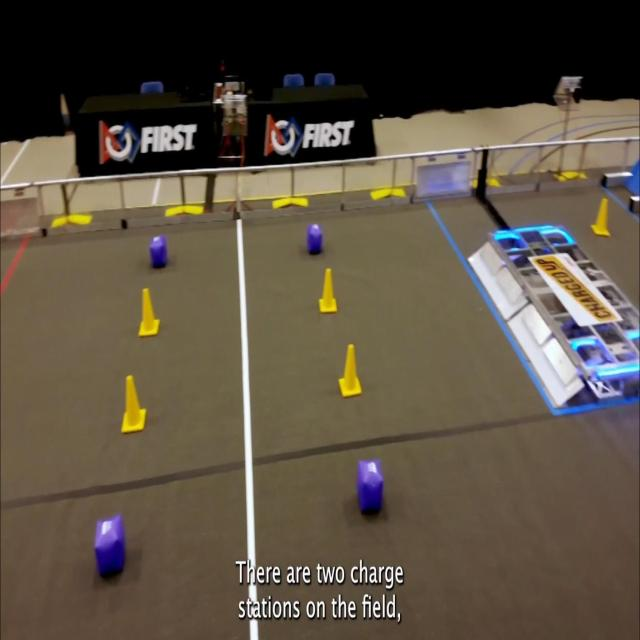frc_cone: (120, 375, 146, 433), (338, 344, 362, 398), (139, 286, 160, 336), (319, 268, 338, 312), (590, 198, 609, 237)
frc_cube: (95, 514, 125, 578), (356, 459, 384, 518), (150, 235, 167, 267), (308, 224, 323, 257)
